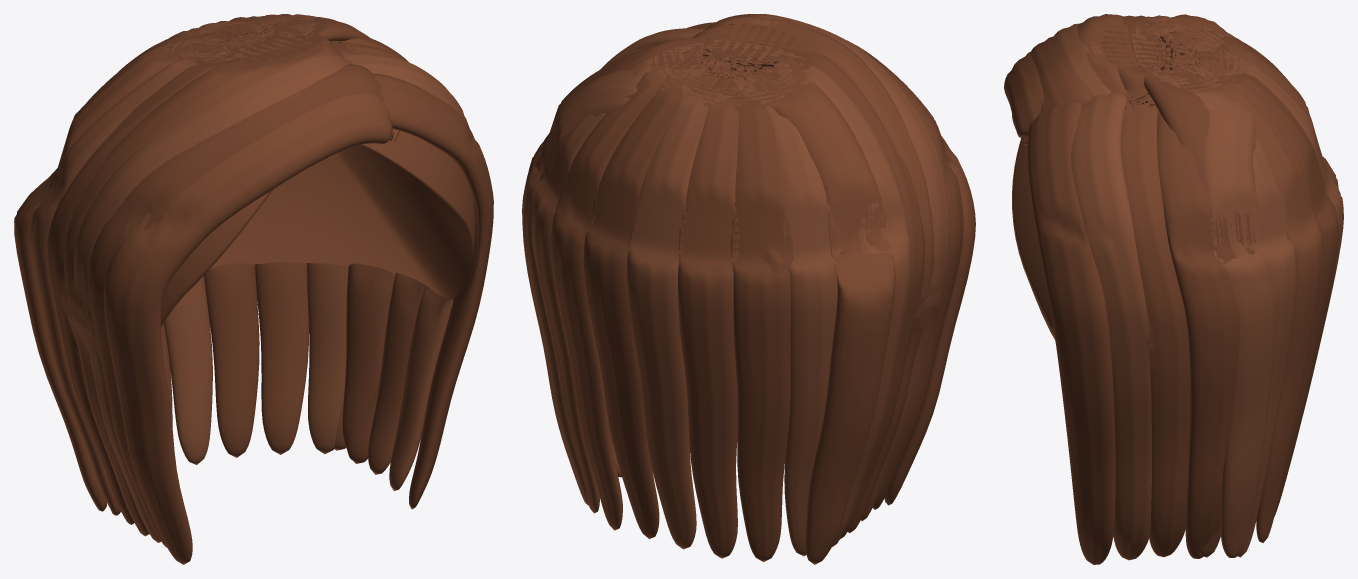
File: Feminine-straight-bucket251-hair.glb
3 views of the same model, side by side, from view 1: azimuth 30°, elevation 25°; view 2: azimuth 150°, elevation 25°; view 3: azimuth 270°, elevation 25° (orthographic). The views are drawn at different scales.
Visible parts, largest first — view 1: 226 hair / Hair / sculpted 0.004, 226 hair / Hair / sculpted 1.008, 226 hair / Hair / sculpted 2.004, 226 hair / Hair / sculpted 1.007; view 2: 226 hair / Hair / sculpted 0.004, 226 hair / Hair / sculpted 2.004, 226 hair / Hair / sculpted 1.008; view 3: 226 hair / Hair / sculpted 1.008, 226 hair / Hair / sculpted 2.004, 226 hair / Hair / sculpted 0.004, 226 hair / Hair / sculpted 1.007.
Boxes of the visible parts, x1,y1,x2,y2 form: 226 hair / Hair / sculpted 0.004: (14, 14, 425, 564); 226 hair / Hair / sculpted 1.008: (47, 16, 493, 547); 226 hair / Hair / sculpted 2.004: (30, 14, 476, 542); 226 hair / Hair / sculpted 1.007: (161, 131, 475, 326); 226 hair / Hair / sculpted 0.004: (550, 15, 975, 564); 226 hair / Hair / sculpted 2.004: (522, 14, 950, 556); 226 hair / Hair / sculpted 1.008: (522, 14, 963, 561); 226 hair / Hair / sculpted 1.008: (1028, 15, 1338, 564); 226 hair / Hair / sculpted 2.004: (1049, 15, 1343, 560); 226 hair / Hair / sculpted 0.004: (1004, 14, 1338, 557); 226 hair / Hair / sculpted 1.007: (1012, 114, 1055, 339).
Bounding box in the file's own units: 1.02 × 1.18 × 0.7803.
